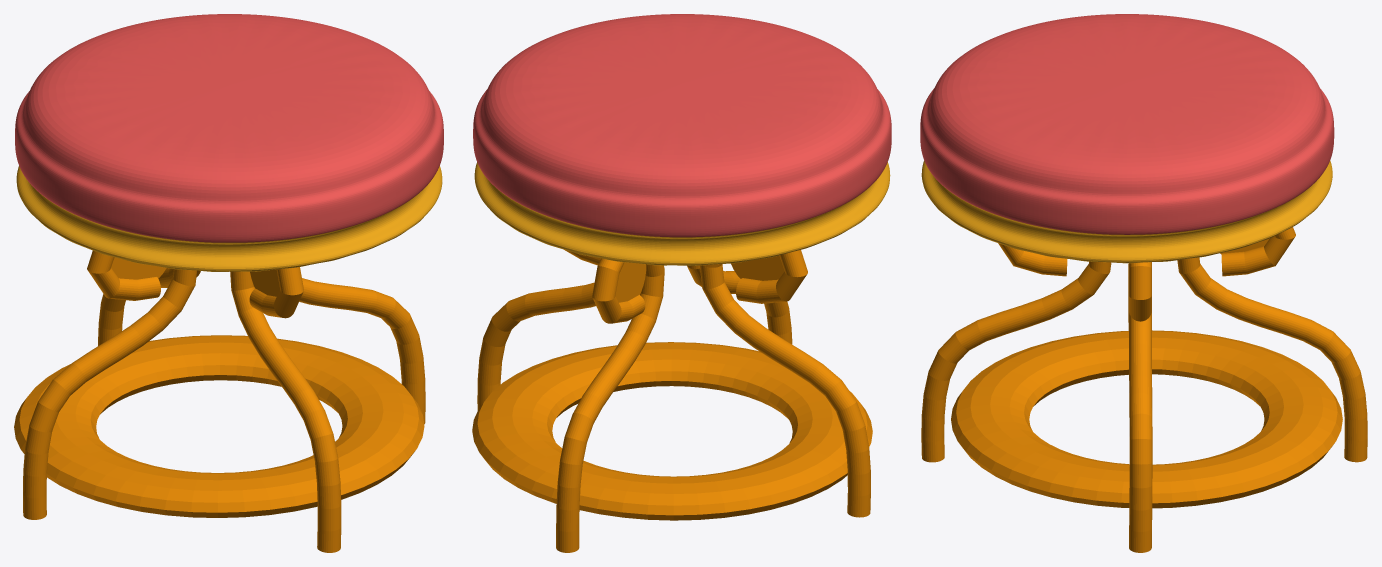
File: chair.glb
3 views of the same model, side by side, from view 1: azimuth 30°, elevation 25°; view 2: azimuth 150°, elevation 25°; view 3: azimuth 270°, elevation 25° (orthographic). The views are drawn at different scales.
Visible parts, largest first — view 1: Cylinder.004, Torus.001; view 2: Cylinder.004, Torus.001; view 3: Cylinder.004, Torus.001.
Part boxes in pixels (left/top/right/bottom): Cylinder.004: left=15, top=14, right=443, bottom=271; Torus.001: left=14, top=250, right=425, bottom=552; Cylinder.004: left=473, top=14, right=891, bottom=265; Torus.001: left=472, top=249, right=872, bottom=552; Cylinder.004: left=920, top=14, right=1334, bottom=263; Torus.001: left=921, top=227, right=1367, bottom=552.
Size of the model in its own units: 2.14 by 1.99 by 2.15.
